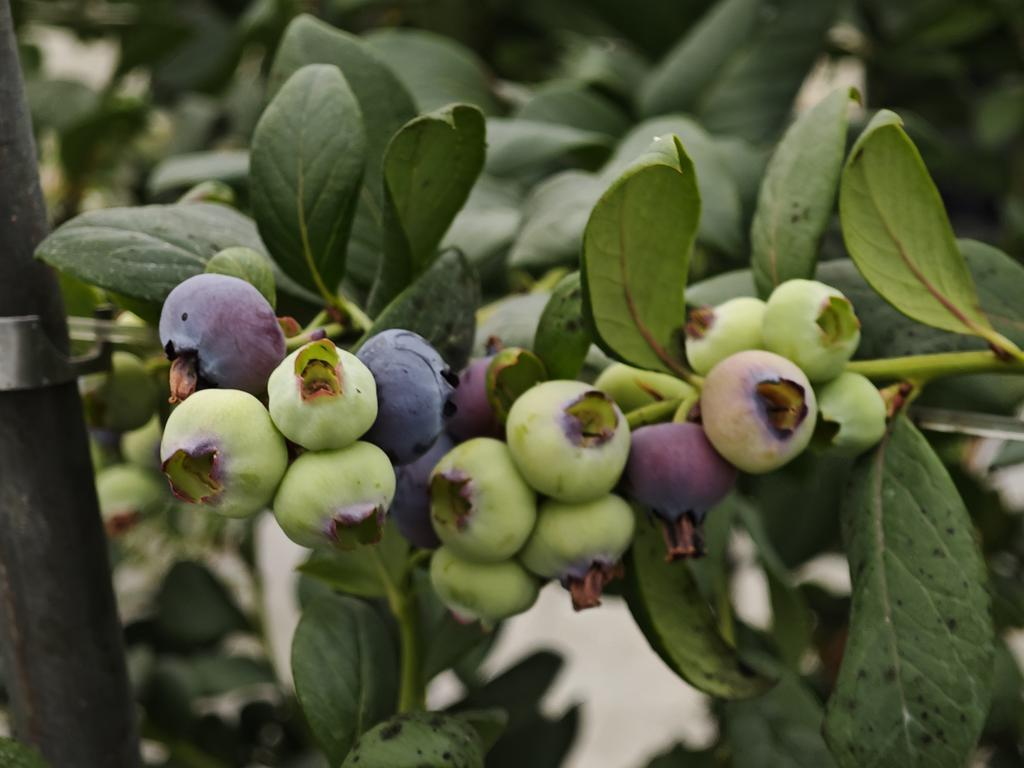RipeBlueBerry: (155, 268, 289, 397), (359, 325, 460, 462)
Semi-RipeBlueBerry: (624, 421, 738, 526)
UnripeBlueBerry: (157, 384, 291, 521), (504, 378, 638, 499), (421, 434, 540, 568), (699, 346, 826, 471), (272, 442, 400, 551), (264, 341, 381, 452)
